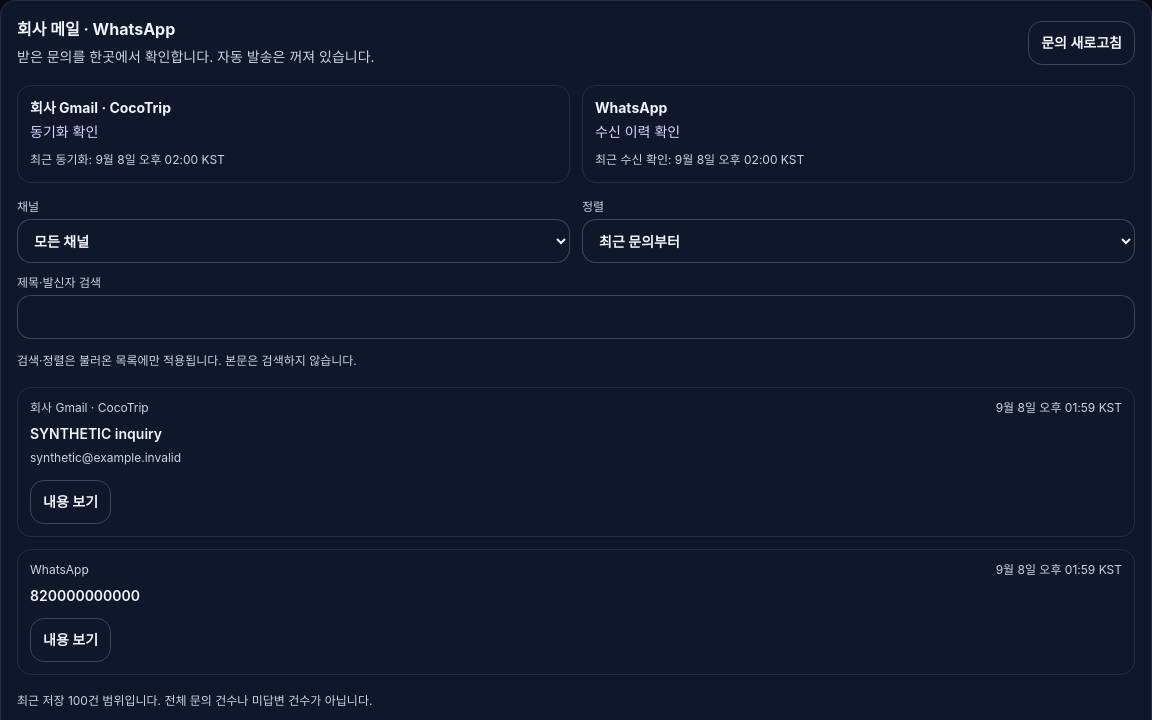
Test: company inbox read-only interaction › uses a fixed error for expired details and keeps the summary available
Expected: the text "SYNTHETIC inquiry" is shown, [30, 425, 162, 442]
Click the button "내용 보기" below "SYNTHETIC inquiry" at (71, 502), box [30, 480, 111, 524]
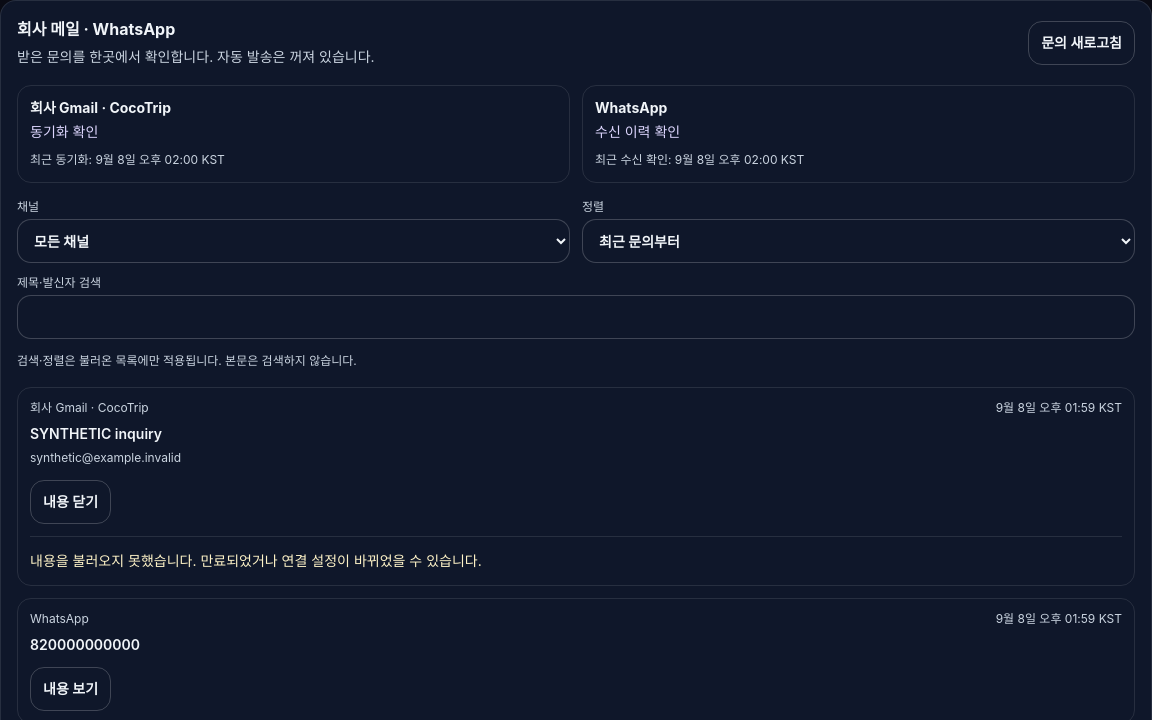
Expected: the text "SYNTHETIC inquiry" is shown, [30, 425, 162, 442]
Result: the text "내용을 불러오지 못했습니다. 만료되었거나 연결 설정이 바뀌었을 수 있습니다." is shown at [30, 552, 482, 569]
